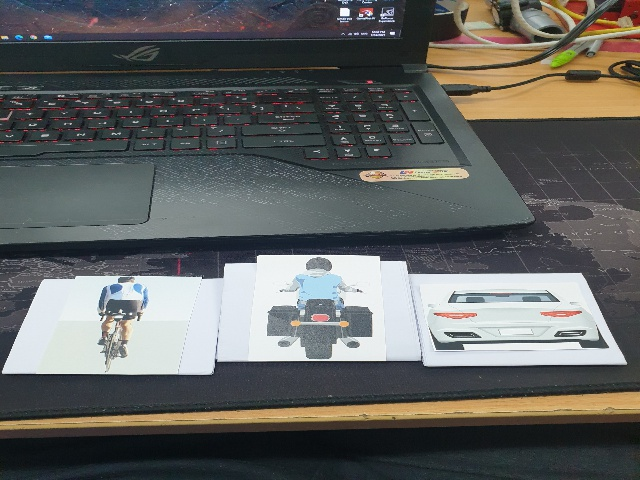Car: (425, 286, 608, 353)
Cyclist: (85, 279, 154, 371)
Motorcycle: (264, 254, 381, 360)
